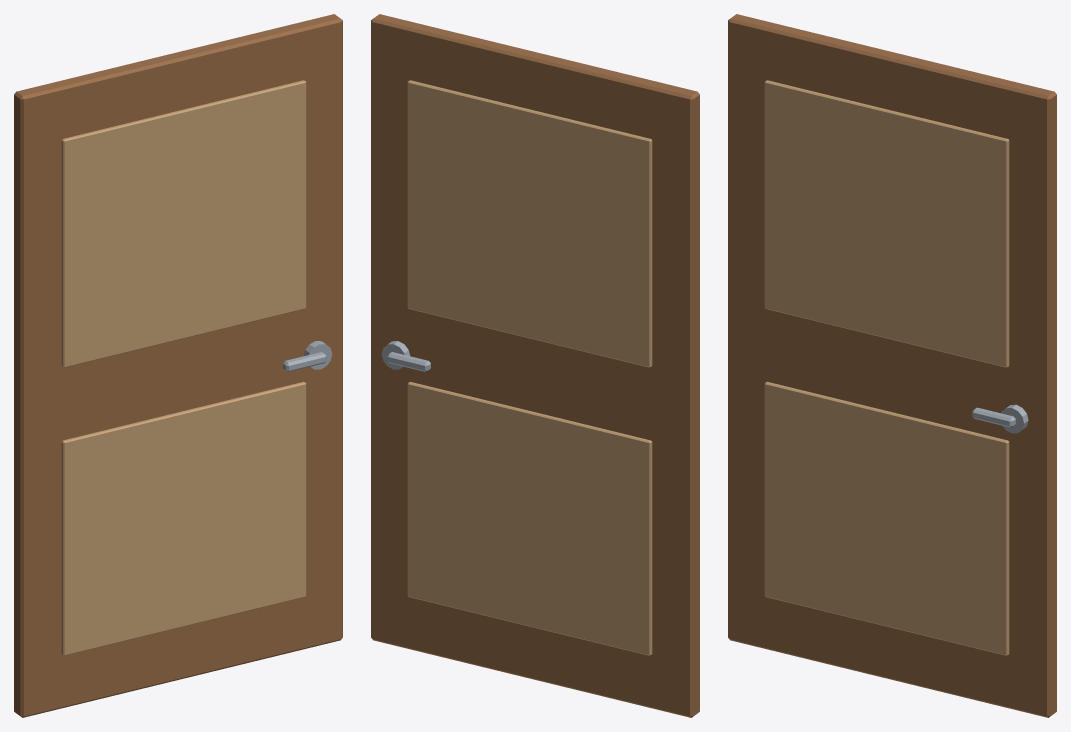
Rendered from Door_Leaf_Panelled.fbx.
The picture shows the model from 3 angles, left to right: view 1: azimuth 30°, elevation 25°; view 2: azimuth 150°, elevation 25°; view 3: azimuth 330°, elevation 25°; orthographic projection.
Parts seen in each view (by area): view 1: Door_Leaf_Panelled; view 2: Door_Leaf_Panelled; view 3: Door_Leaf_Panelled.
Boxes of the visible parts, x1,y1,x2,y2 form: Door_Leaf_Panelled: (14,14,342,717); Door_Leaf_Panelled: (371,14,699,717); Door_Leaf_Panelled: (728,14,1056,717).
Bounding box in the file's own units: 252 × 464 × 40.6.
